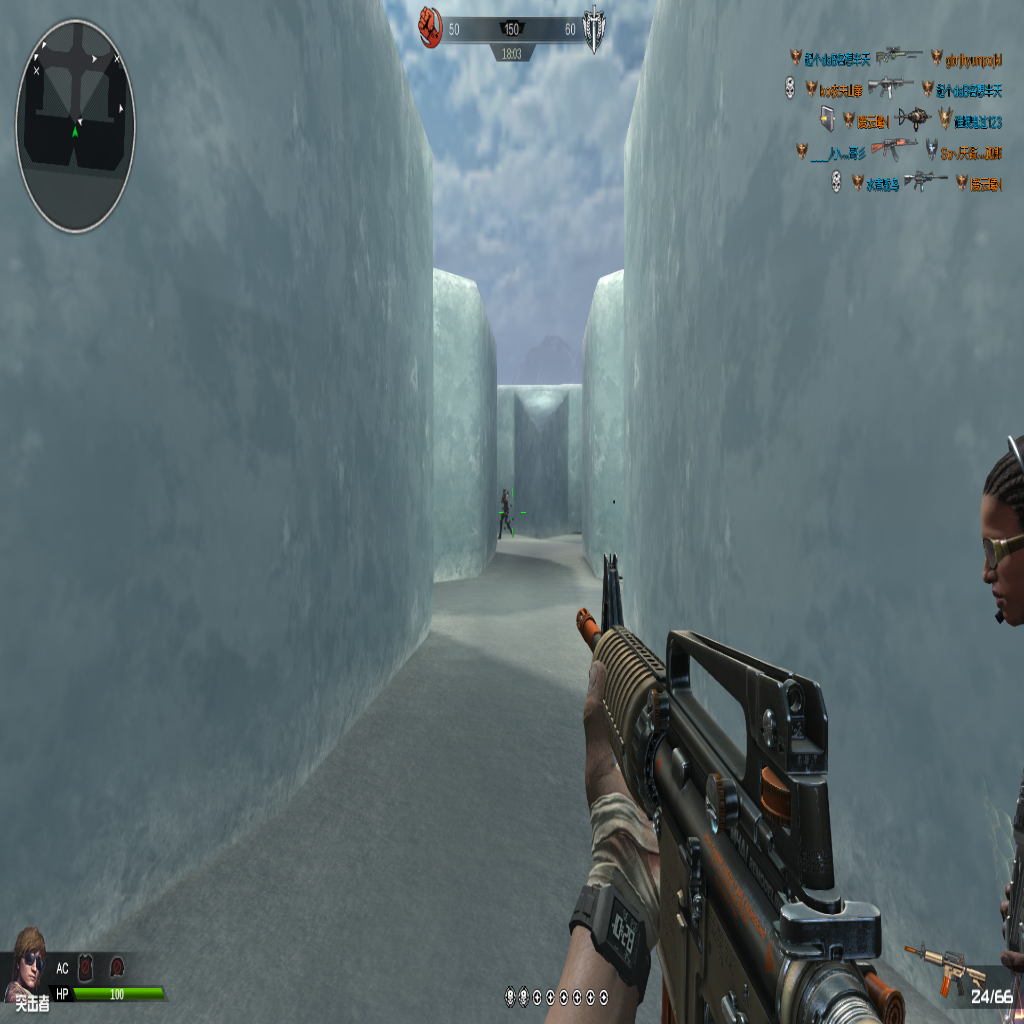ct: (498, 485, 513, 540)
